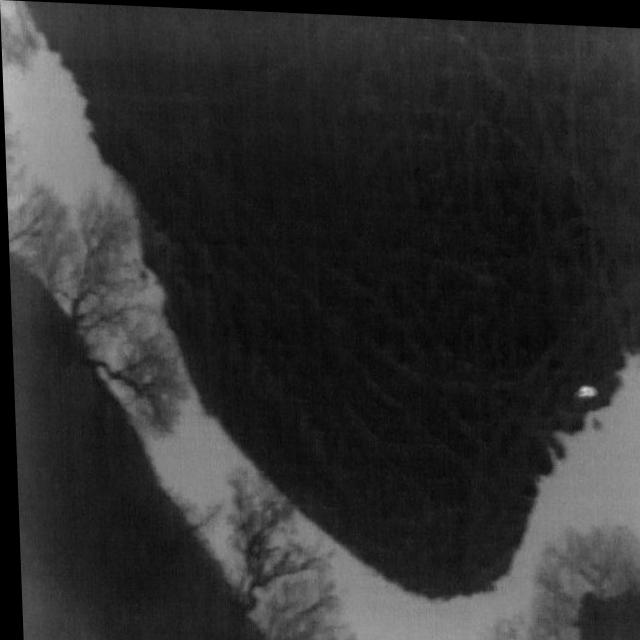deer: (570, 379, 596, 394), (638, 285, 640, 311)
